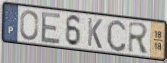6: (65, 14, 82, 48)
C: (106, 19, 128, 54)
E: (40, 11, 62, 45)
K: (86, 16, 104, 51)
O: (19, 9, 40, 42)
R: (127, 21, 150, 55)
